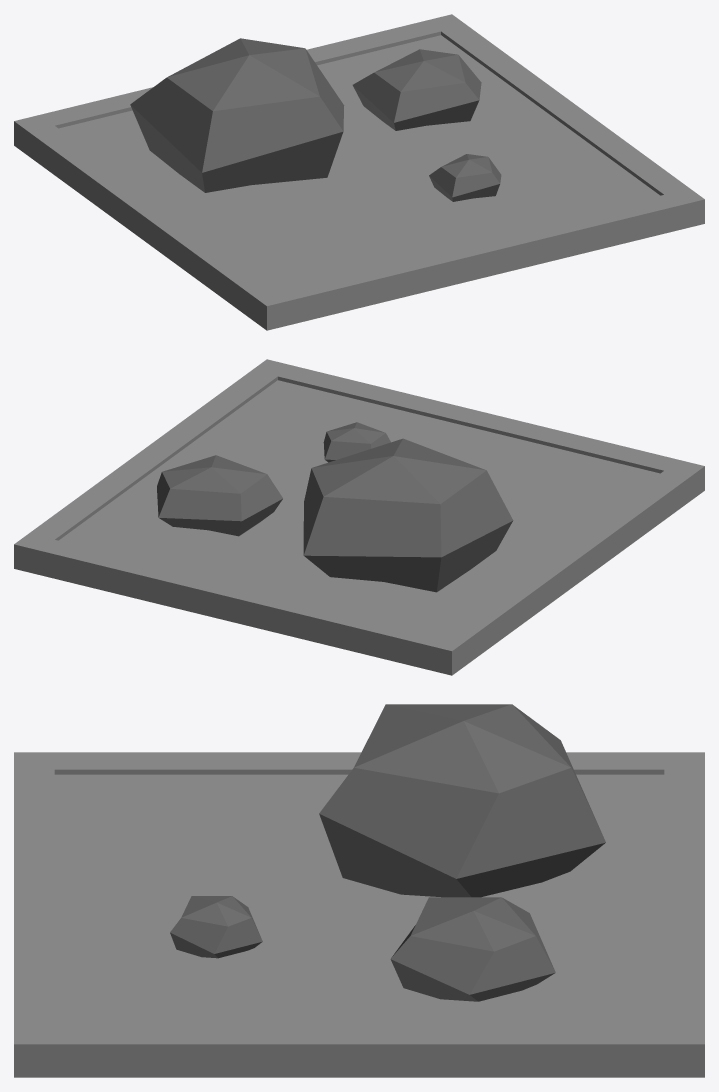
Rendered from Environment2_Model.fbx.
3 renders of one model, top to bottom at view 1: azimuth 30°, elevation 25°; view 2: azimuth 150°, elevation 25°; view 3: azimuth 270°, elevation 25°, orthographic. The views are drawn at different scales.
Parts seen in each view (by area): view 1: BaseTile_Model:pCube7, pSphere1, pSphere2, pSphere3; view 2: BaseTile_Model:pCube7, pSphere1, pSphere2, pSphere3; view 3: BaseTile_Model:pCube7, pSphere1, pSphere2, pSphere3.
Part boxes in pixels (x1,y1,x2,y2): BaseTile_Model:pCube7: (14, 14, 704, 330); pSphere1: (130, 38, 344, 192); pSphere2: (352, 49, 481, 130); pSphere3: (429, 154, 501, 201); BaseTile_Model:pCube7: (14, 359, 704, 675); pSphere1: (303, 438, 513, 592); pSphere2: (157, 455, 282, 536); pSphere3: (323, 422, 390, 462); BaseTile_Model:pCube7: (14, 752, 704, 1077); pSphere1: (319, 704, 605, 897); pSphere2: (390, 897, 555, 1001); pSphere3: (170, 896, 262, 958).
Bounding box in the file's own units: 22.06 × 5.89 × 22.06.
